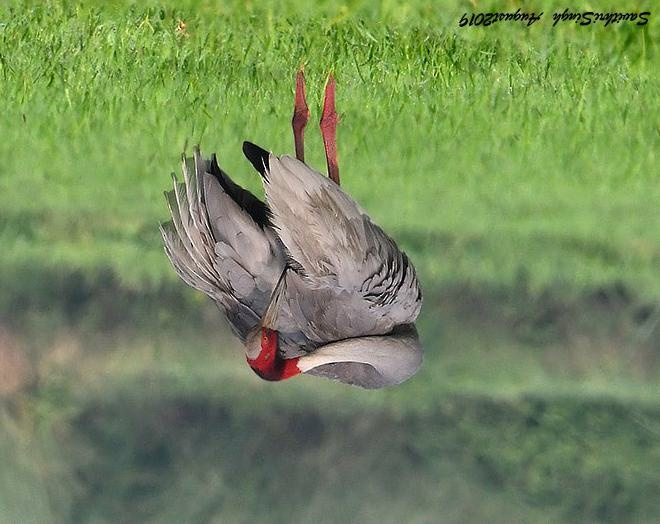crane: (157, 54, 441, 395)
